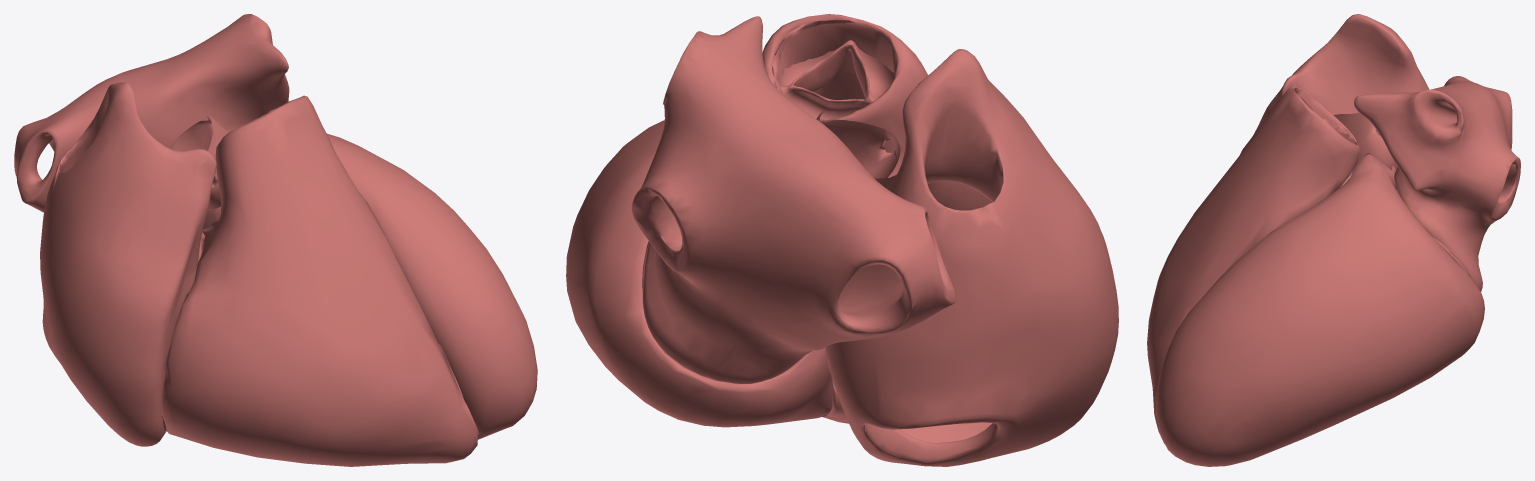
Rendered from vh_m_heart.glb.
The picture shows the model from 3 angles, left to right: view 1: azimuth 30°, elevation 25°; view 2: azimuth 150°, elevation 25°; view 3: azimuth 270°, elevation 25°; orthographic projection. The views are drawn at different scales.
Visible parts, largest first — view 1: VH_M_heart_right_ventricle, VH_M_right_cardiac_atrium, VH_M_heart_left_ventricle, VH_M_left_cardiac_atrium, VH_M_aortic_valve; view 2: VH_M_left_cardiac_atrium, VH_M_right_cardiac_atrium, VH_M_heart_left_ventricle, VH_M_heart_right_ventricle, VH_M_pulmonary_valve, VH_M_aortic_valve; view 3: VH_M_heart_left_ventricle, VH_M_heart_right_ventricle, VH_M_left_cardiac_atrium, VH_M_right_cardiac_atrium, VH_M_aortic_valve.
Boxes of the visible parts, x1,y1,x2,y2 form: VH_M_heart_right_ventricle: [162, 95, 477, 466]; VH_M_right_cardiac_atrium: [40, 82, 216, 446]; VH_M_heart_left_ventricle: [202, 133, 537, 439]; VH_M_left_cardiac_atrium: [14, 14, 289, 212]; VH_M_aortic_valve: [170, 114, 229, 210]; VH_M_left_cardiac_atrium: [631, 16, 955, 383]; VH_M_right_cardiac_atrium: [825, 49, 1118, 466]; VH_M_heart_left_ventricle: [566, 120, 833, 427]; VH_M_heart_right_ventricle: [762, 14, 928, 423]; VH_M_pulmonary_valve: [772, 19, 897, 119]; VH_M_aortic_valve: [816, 108, 900, 188]; VH_M_heart_left_ventricle: [1155, 153, 1484, 466]; VH_M_heart_right_ventricle: [1147, 86, 1359, 443]; VH_M_left_cardiac_atrium: [1354, 76, 1520, 291]; VH_M_right_cardiac_atrium: [1240, 14, 1429, 154]; VH_M_aortic_valve: [1334, 112, 1397, 169].
Bounding box in the file's own units: 0.1243 × 0.1054 × 0.1053.
